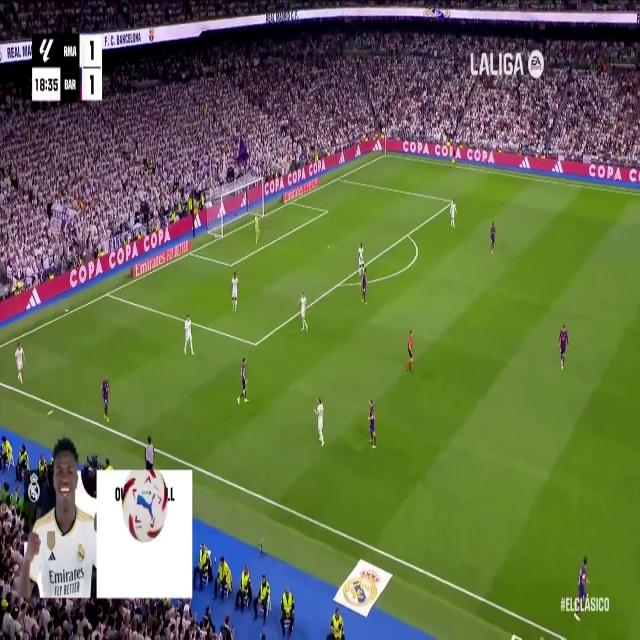bigarea_bottom_inner: (252, 333, 260, 354)
bigarea_bottom_outter: (104, 286, 112, 300)
bigarea_top_inner: (448, 197, 452, 207)
bigarea_top_outter: (334, 172, 342, 183)
bottom_arc_area_intersection: (334, 276, 344, 291)
corner: (382, 148, 388, 158)
smallarea_bottom_inner: (227, 258, 234, 272)
smallarea_bottom_outter: (187, 245, 194, 259)
smallarea_top_inner: (324, 206, 328, 214)
top_arc_area_intersection: (404, 227, 411, 241)
